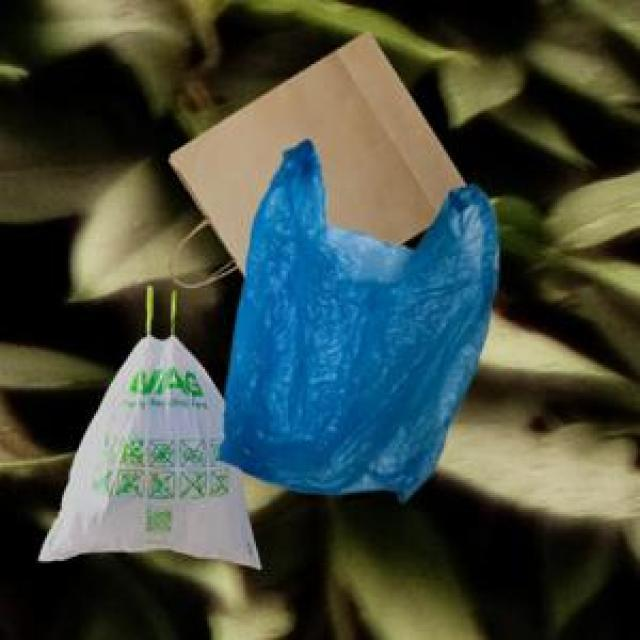paper: (164, 28, 463, 271)
